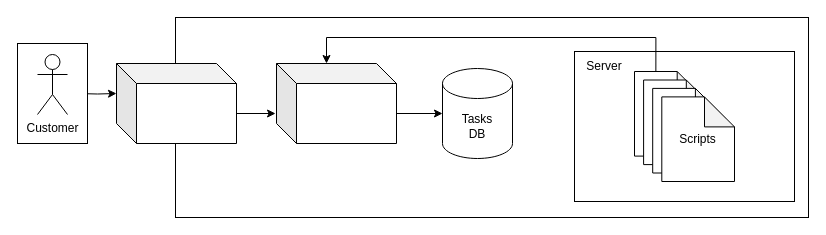
The diagram is 826 pixels wide and 235 high, and some of its shapes have lost their labels. Here are the shapes that lost their labels. From the top down, the box of each, then its label:
(116, 62, 236, 144): OVH API
(276, 62, 396, 144): Tasks
